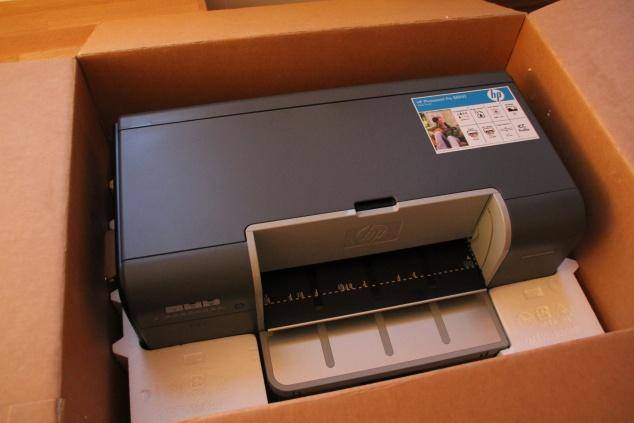Printer: (114, 69, 586, 397)
